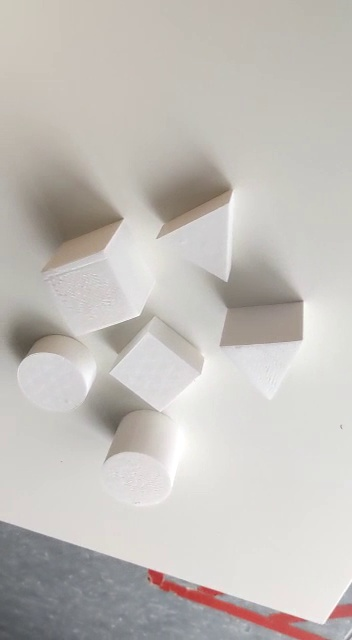Clyinder_short: (12, 332, 98, 416)
Cube: (40, 215, 163, 337)
Cube_short: (106, 311, 207, 421)
Cylinder: (102, 405, 181, 511)
Triangle: (215, 300, 310, 407)
Triangle_short: (156, 189, 242, 289)
